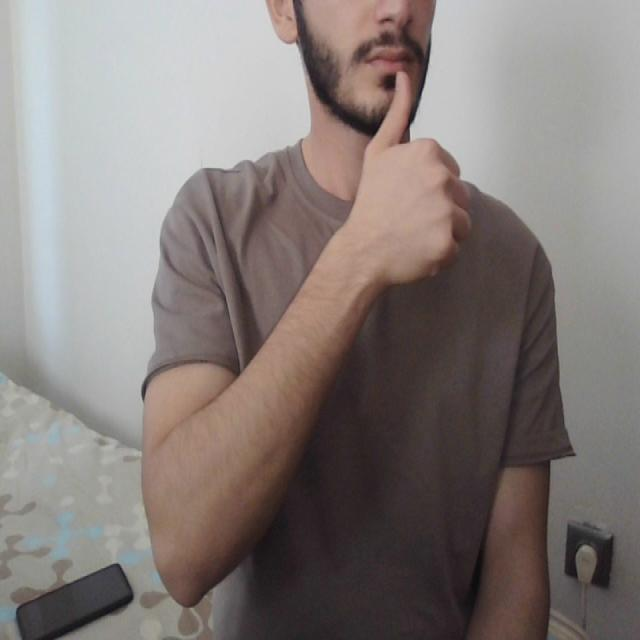Baba: (360, 38, 418, 141)
